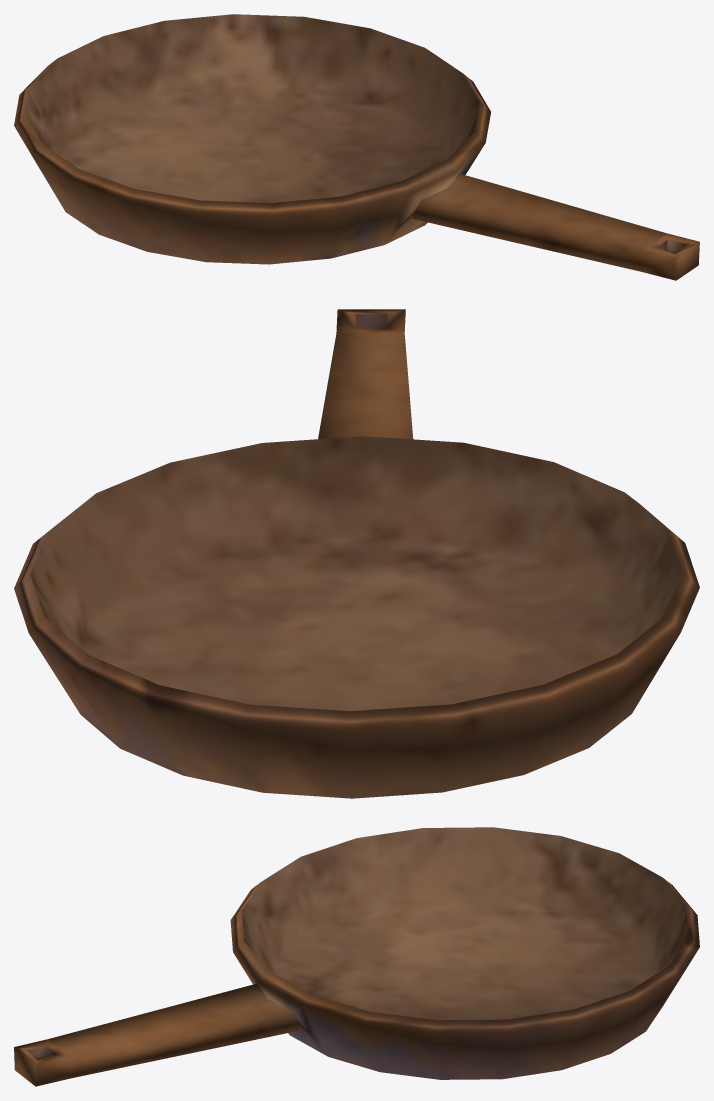
File: pan3.fbx
3 views of the same model, one above another, from view 1: azimuth 30°, elevation 25°; view 2: azimuth 150°, elevation 25°; view 3: azimuth 270°, elevation 25° (orthographic). The views are drawn at different scales.
Parts seen in each view (by area): view 1: Strove.010; view 2: Strove.010; view 3: Strove.010.
Boxes of the visible parts, x1,y1,x2,y2 form: Strove.010: (14,14,699,280); Strove.010: (14,309,699,798); Strove.010: (14,827,699,1086).
Size of the model in its own units: 25.11 by 4.18 by 34.61.
1 material, 1 textured.
